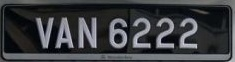character: (54, 16, 75, 48), (77, 16, 97, 49), (33, 16, 53, 48), (108, 17, 127, 49), (155, 17, 174, 49), (179, 16, 197, 49), (132, 17, 150, 48)
